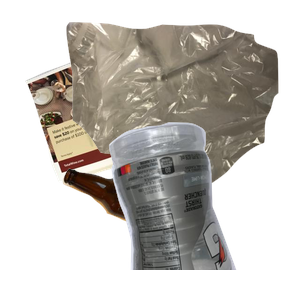glass: (60, 166, 241, 300)
paper: (23, 24, 232, 199)
plastic: (106, 120, 300, 300)
trash: (64, 20, 300, 200)
